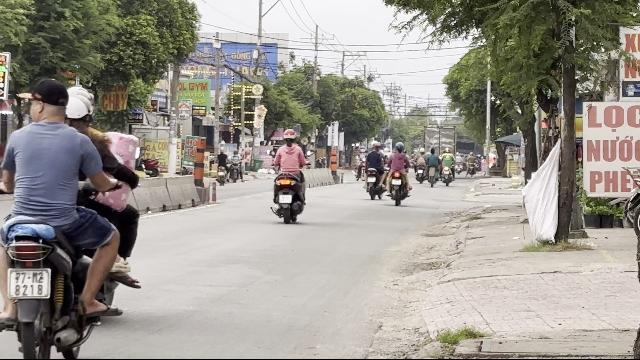helmet: (64, 89, 94, 131)
licenseplate: (8, 270, 50, 298)
motorcyclist: (2, 78, 142, 358)
nohelmet: (29, 79, 69, 121)
